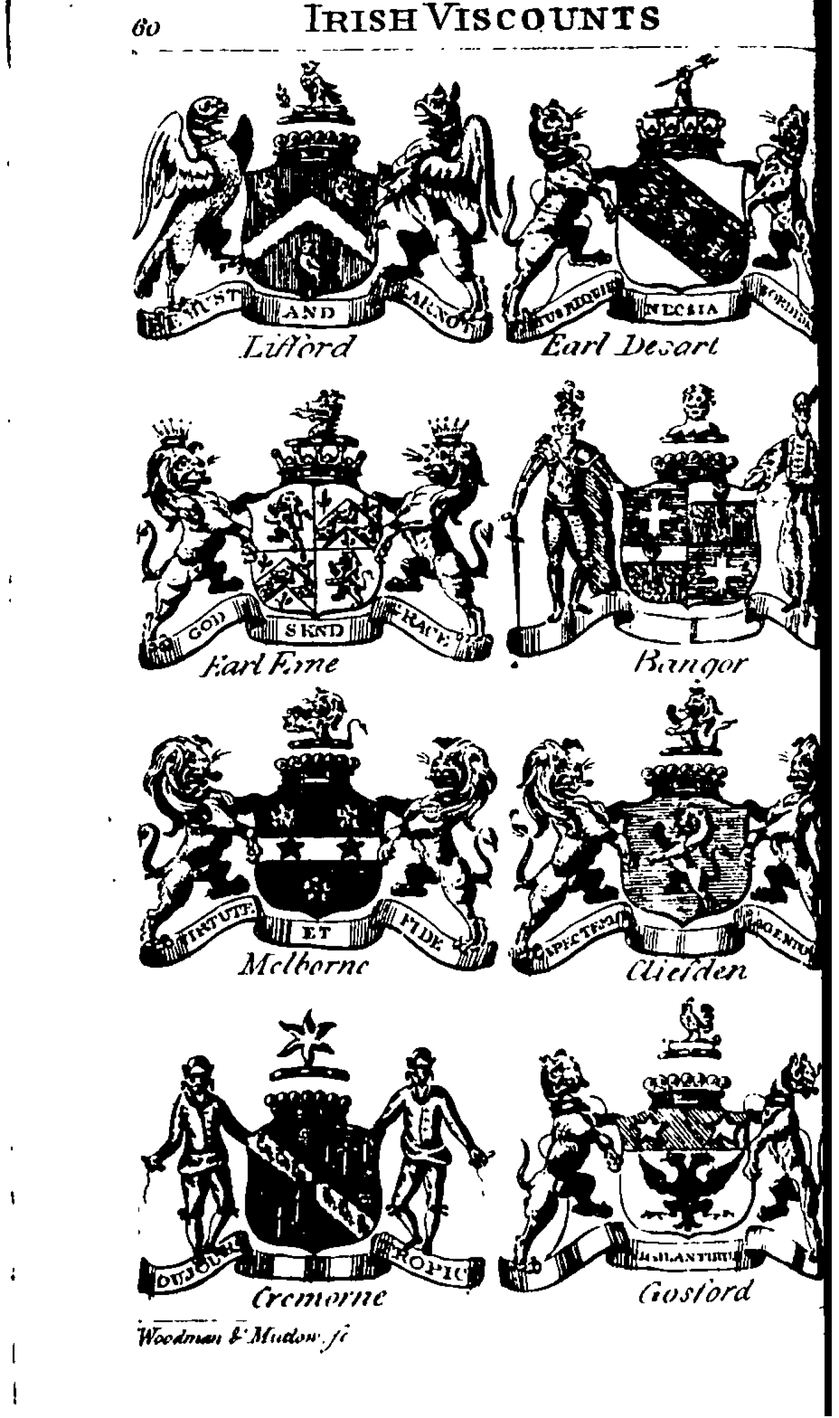coat_of_arms: (137, 53, 501, 378), (141, 688, 500, 992), (140, 1005, 493, 1314), (509, 999, 838, 1312), (501, 681, 831, 993), (139, 397, 504, 678), (502, 370, 828, 681), (500, 53, 817, 361)
